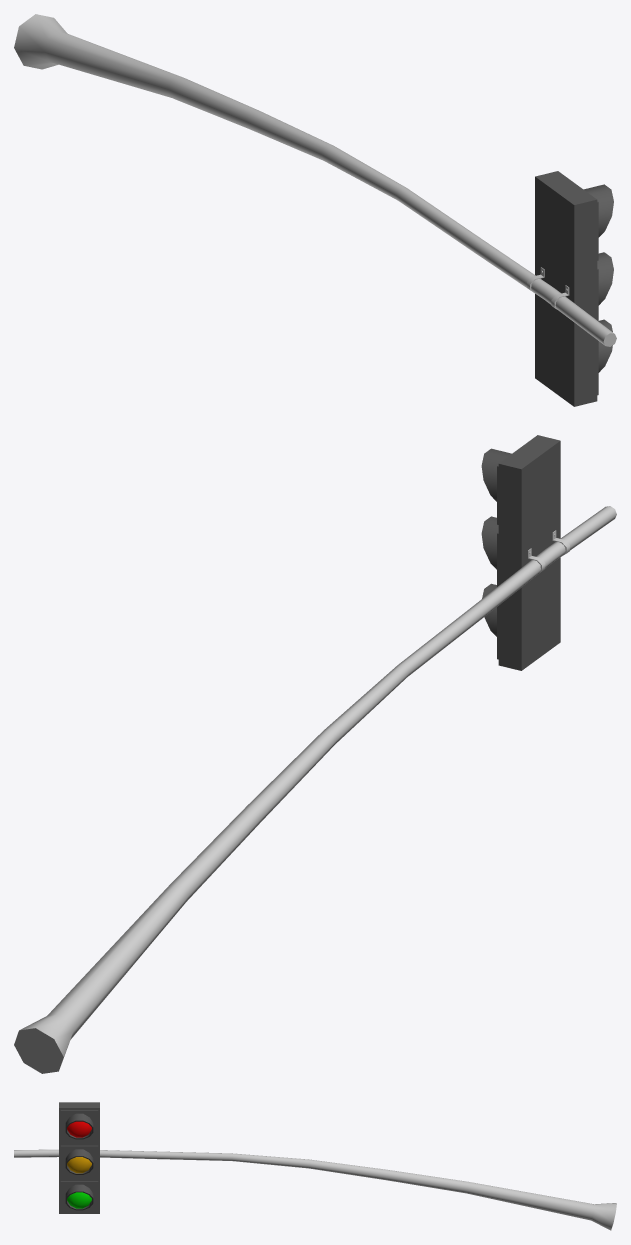
File: traffic light.FBX
The picture shows the model from 3 angles, top to bottom: view 1: azimuth 30°, elevation 25°; view 2: azimuth 150°, elevation 25°; view 3: azimuth 270°, elevation 25°; orthographic projection. The views are drawn at different scales.
Parts seen in each view (by area): view 1: Line001, traffic light; view 2: Line001, traffic light; view 3: Line001, traffic light.
Part boxes in pixels (x1,y1,x2,y2): Line001: (14,14,616,346); traffic light: (535,171,613,406); Line001: (14,506,616,1073); traffic light: (481,435,560,670); Line001: (14,1149,616,1230); traffic light: (59,1102,99,1213).
Size of the model in its own units: 30.52 by 84.79 by 357.
